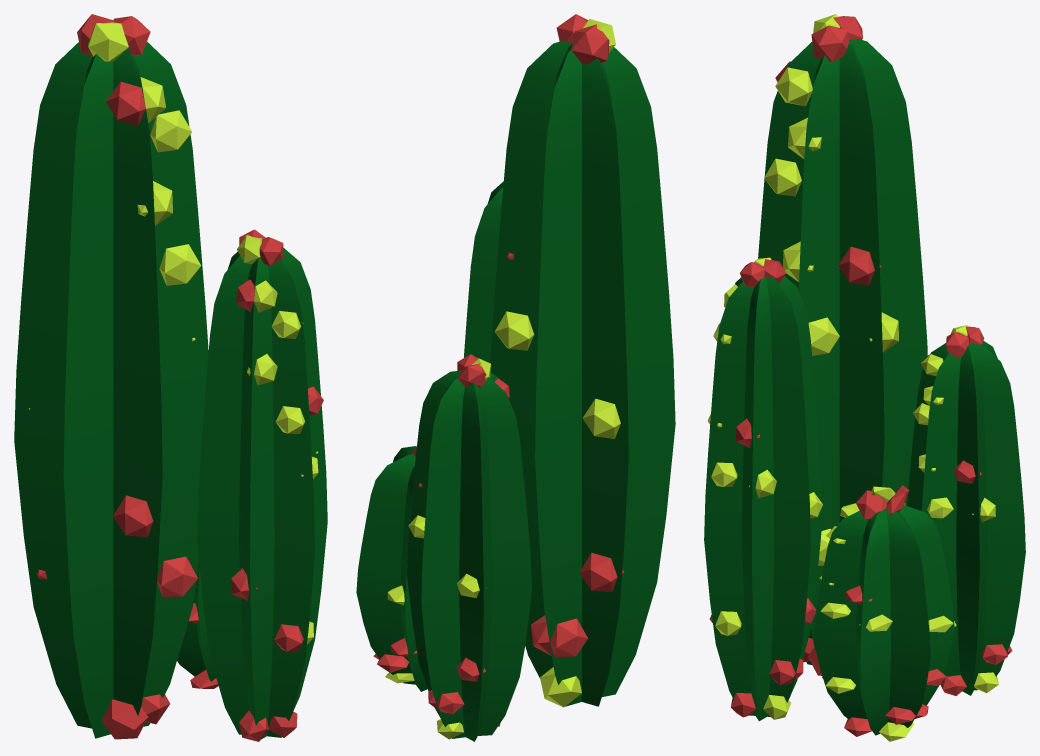
File: Desert.fbx
3 views of the same model, side by side, from view 1: azimuth 30°, elevation 25°; view 2: azimuth 150°, elevation 25°; view 3: azimuth 270°, elevation 25° (orthographic). The views are drawn at different scales.
Parts seen in each view (by area): view 1: CACTUS_9, CACTUS_7, CACTUS_3, Platonic_114_4, Platonic_1_42_4, Platonic_1_28_4, Platonic_0_4, Platonic_123_4, Platonic_1_111_4, Platonic_117_4, Platonic_57_4, Platonic_1_135_4 (+11 smaller); view 2: CACTUS_9, CACTUS_5, CACTUS_3, CACTUS_7, Platonic_83_4, Platonic_1_21_4, Platonic_60_4, Platonic_1_62_4, Platonic_45_4, Platonic_1_30_4, Platonic_31_4; view 3: CACTUS_9, CACTUS_7, CACTUS_5, CACTUS_3, Platonic_57_4, Platonic_1_137_4, Platonic_1_135_4, Platonic_8_4, Platonic_1_99_4, Platonic_1_42_4, Platonic_1_28_4, Platonic_57 (+3 smaller).
Boxes of the visible parts, x1,y1,x2,y2 form: CACTUS_9: (14, 42, 208, 738); CACTUS_7: (197, 248, 327, 739); CACTUS_3: (177, 562, 216, 681); Platonic_114_4: (101, 699, 148, 739); Platonic_1_42_4: (150, 110, 191, 152); Platonic_1_28_4: (159, 244, 201, 285); Platonic_0_4: (157, 556, 197, 596); Platonic_123_4: (106, 81, 145, 125); Platonic_1_111_4: (88, 22, 128, 61); Platonic_117_4: (113, 495, 153, 537); Platonic_57_4: (113, 16, 150, 55); Platonic_1_135_4: (137, 181, 172, 225); CACTUS_9: (490, 40, 675, 706); CACTUS_5: (407, 370, 531, 741); CACTUS_3: (356, 446, 427, 691); CACTUS_7: (464, 181, 503, 362); Platonic_83_4: (571, 24, 609, 64); Platonic_1_21_4: (494, 311, 534, 350); Platonic_60_4: (579, 552, 624, 592); Platonic_1_62_4: (582, 398, 620, 438); Platonic_45_4: (550, 618, 587, 656); Platonic_1_30_4: (540, 667, 581, 707); Platonic_31_4: (531, 615, 551, 655); CACTUS_9: (758, 39, 927, 664); CACTUS_7: (704, 276, 822, 721); CACTUS_5: (907, 341, 1025, 695); CACTUS_3: (813, 505, 954, 735); Platonic_57_4: (811, 25, 849, 61); Platonic_1_137_4: (775, 67, 812, 106); Platonic_1_135_4: (764, 158, 801, 196); Platonic_8_4: (838, 246, 881, 285); Platonic_1_99_4: (808, 317, 839, 355); Platonic_1_42_4: (788, 117, 821, 158); Platonic_1_28_4: (783, 241, 813, 281); Platonic_57: (856, 490, 886, 519).
Size of the model in its own units: 19.93 by 49.47 by 22.32.
